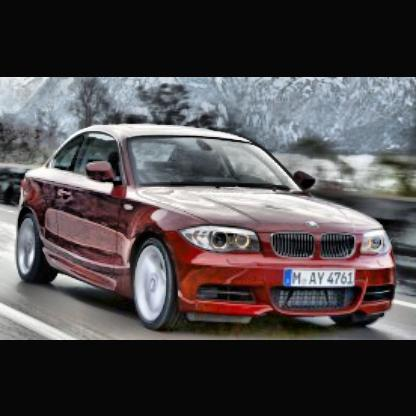BMW 1 Series Coupe 2012: (13, 121, 401, 336)
